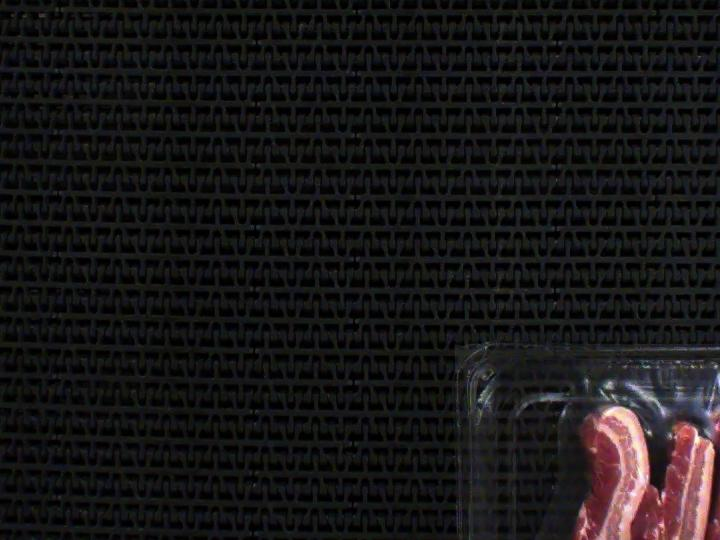unsealed: (537, 353, 720, 540)
